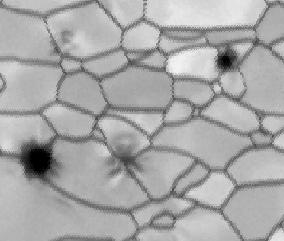good_void: (13, 129, 70, 191), (100, 129, 151, 184), (205, 38, 243, 77), (48, 25, 77, 57)
